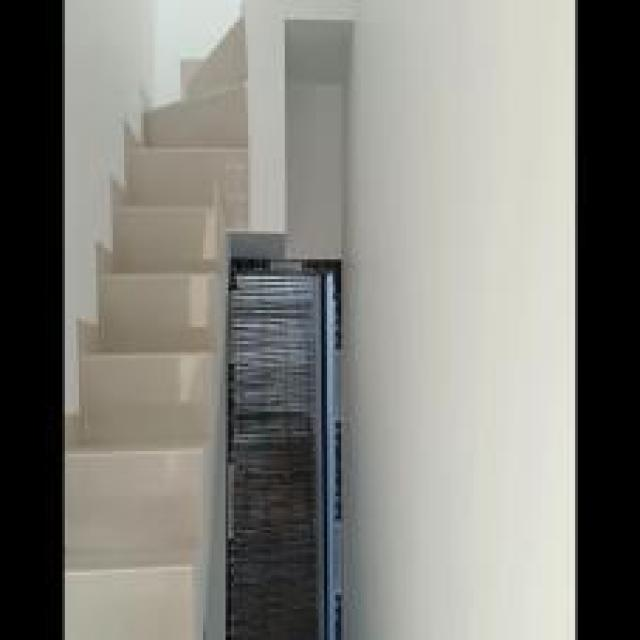upstair: (66, 179, 226, 638)
